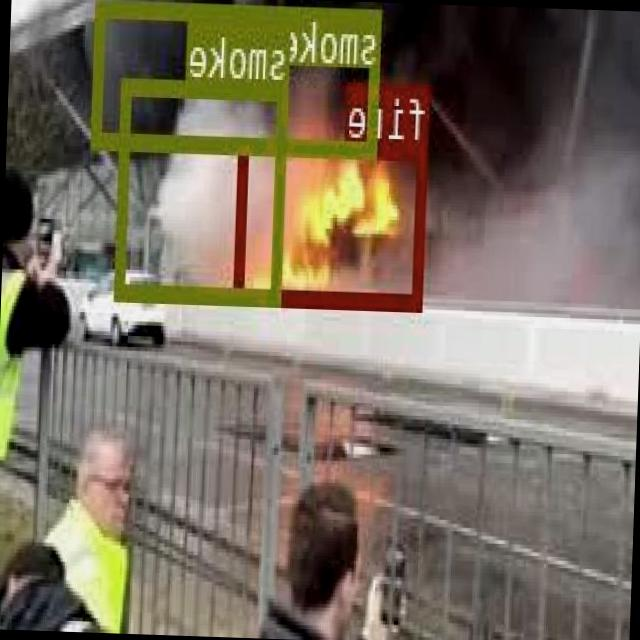fire: (236, 136, 429, 307)
smoke: (92, 0, 384, 154), (116, 76, 290, 301)
